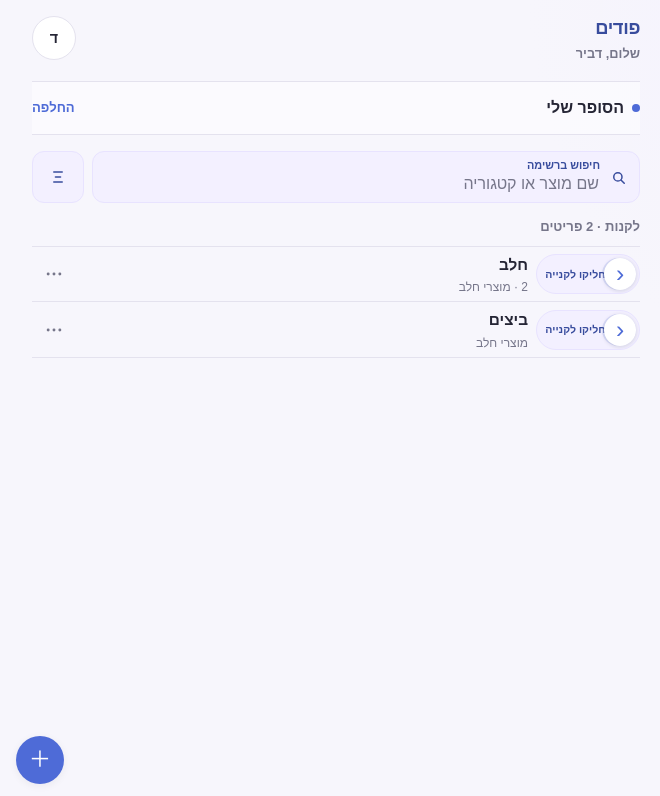
Scenario: keeps the small remaining-count list heading in sync with the active search filter
Expected: the heading "לקנות · 2 פריטים" is shown, [540,219,640,234]
Type "פסטה" into the search field named "חיפוש ברשימת" at point(366, 177), box [92,151,640,203]
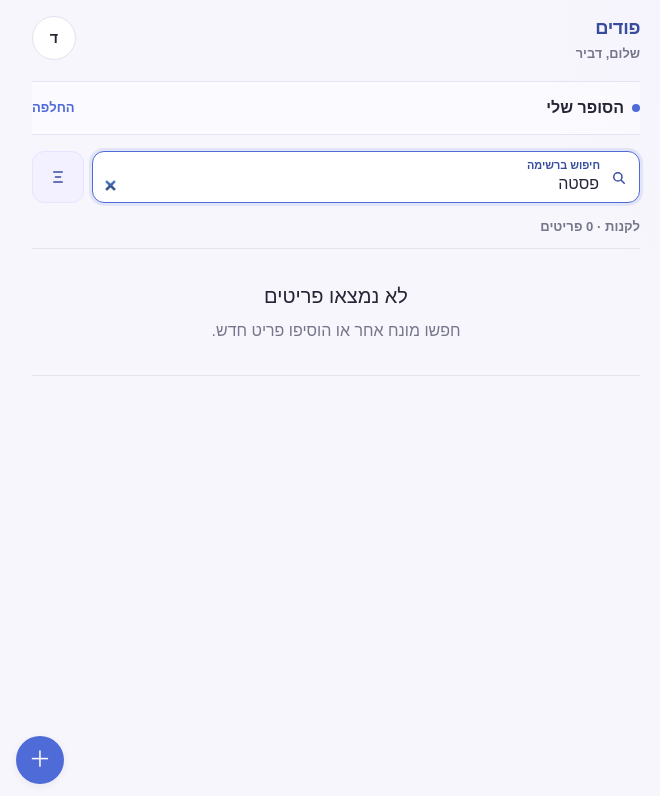
Expected: the heading "לקנות · 0 פריטים" is shown, [540,219,640,234]
Expected: the heading "לא נמצאו פריטים" is shown, [264,286,408,308]
